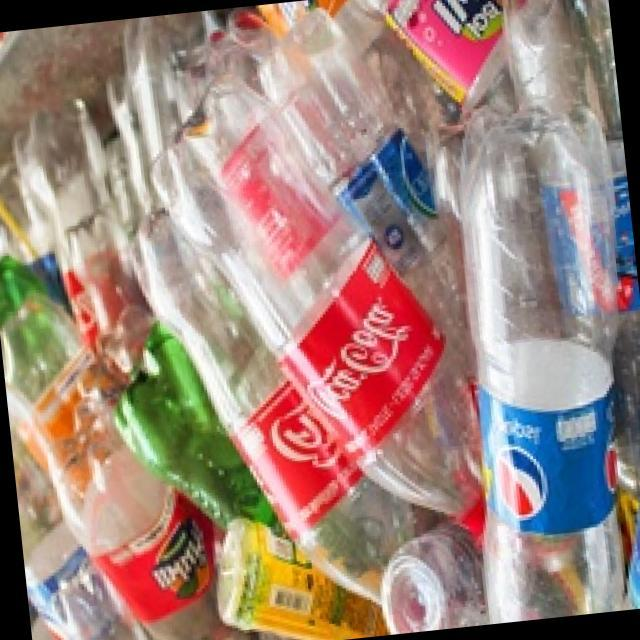good: (128, 65, 553, 560), (105, 196, 447, 625), (423, 89, 640, 624), (3, 288, 277, 640)
